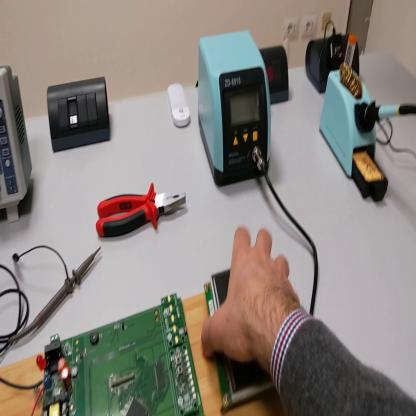hand: (204, 226, 300, 370)
low voltage board: (2, 293, 202, 415)
oscilloscope: (2, 62, 31, 220)
oscilloscope probe tip: (9, 245, 102, 346)
pliers: (93, 179, 187, 240)
socket: (305, 26, 361, 96), (261, 45, 290, 105)
welder base: (320, 36, 391, 195)
welder probe tip: (365, 103, 415, 124)
welder station: (198, 23, 274, 187)
working area: (3, 292, 288, 414)
